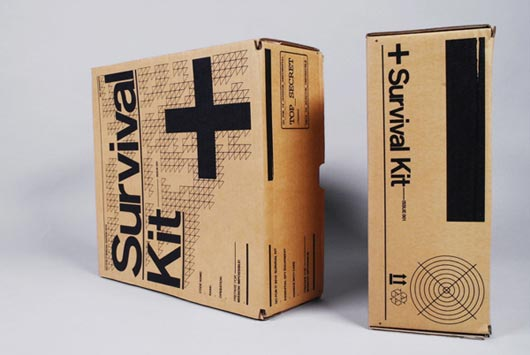Rec_Paper: (71, 30, 335, 327), (345, 7, 506, 352)
